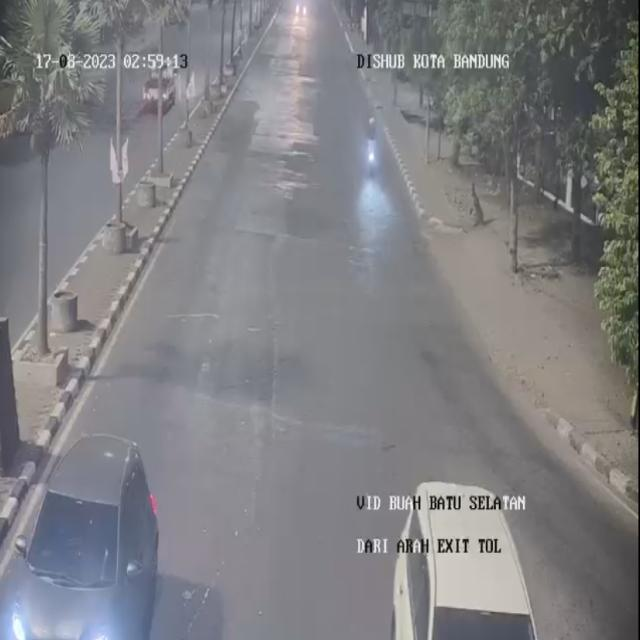cars: (1, 426, 158, 640), (391, 467, 549, 640)
motorcycle: (360, 111, 382, 179)
